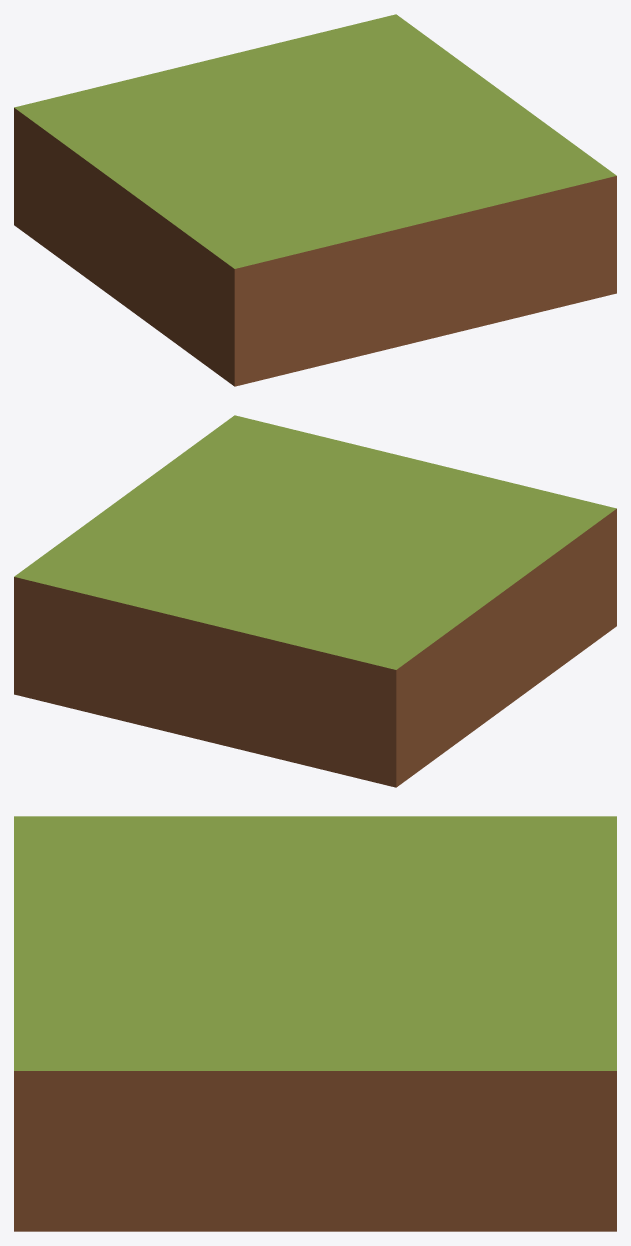
Rendered from tile_grass.glb.
3 renders of one model, top to bottom at view 1: azimuth 30°, elevation 25°; view 2: azimuth 150°, elevation 25°; view 3: azimuth 270°, elevation 25°, orthographic. The views are drawn at different scales.
Parts seen in each view (by area): view 1: grass_cap, grass_body; view 2: grass_cap, grass_body; view 3: grass_cap, grass_body.
Boxes of the visible parts, x1,y1,x2,y2 form: grass_cap: (14, 14, 616, 281); grass_body: (14, 121, 616, 386); grass_cap: (14, 415, 616, 682); grass_body: (14, 522, 616, 787); grass_cap: (14, 816, 616, 1088); grass_body: (14, 1088, 616, 1231).
Size of the model in its own units: 1.7 by 0.5 by 1.7.
